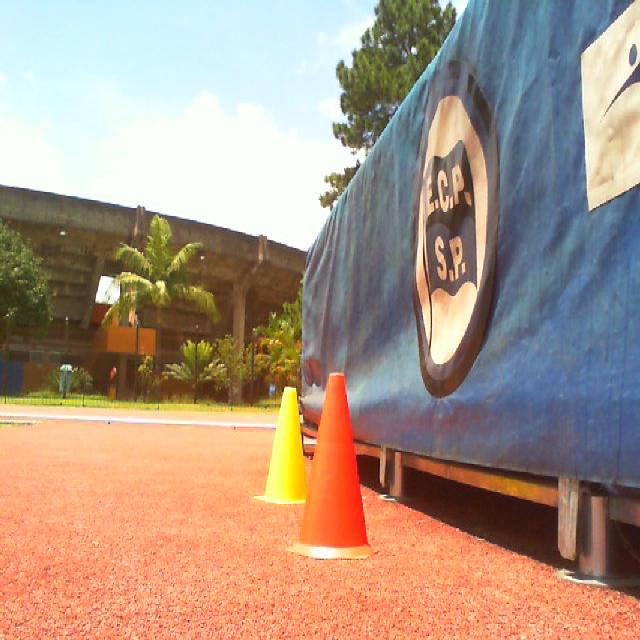cone: (284, 372, 379, 559), (253, 385, 304, 507)
